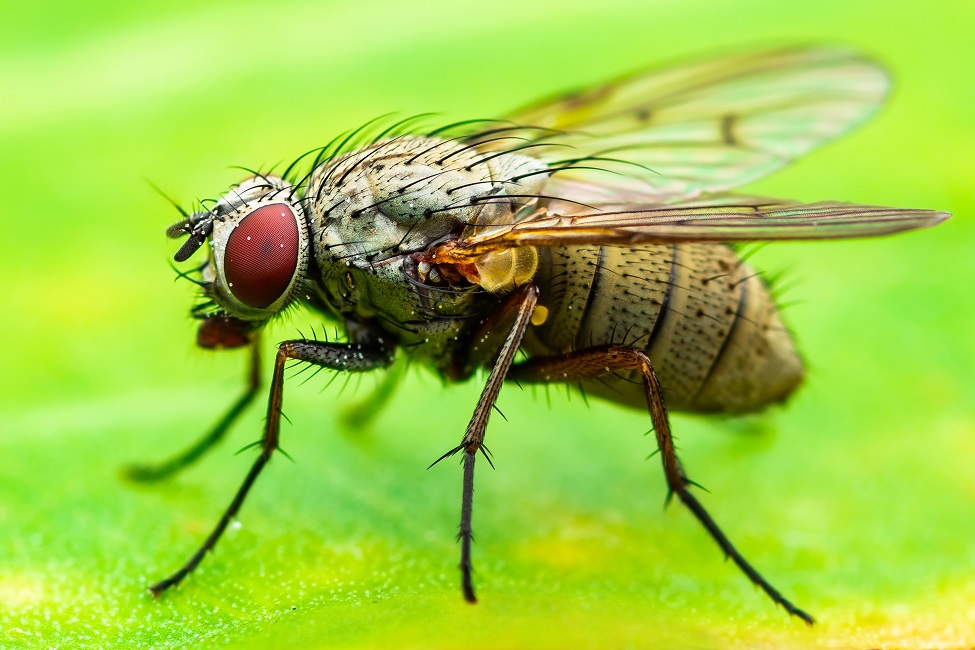Fruit Flies: (114, 32, 966, 633)
